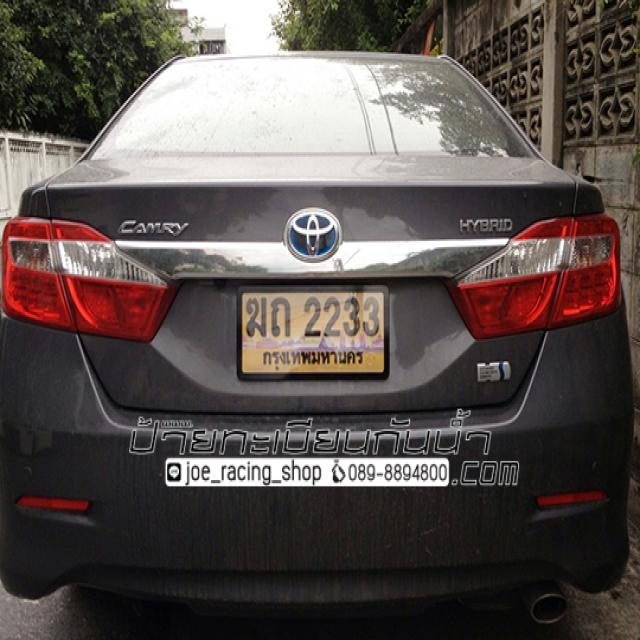license_plate: (236, 283, 392, 383)
